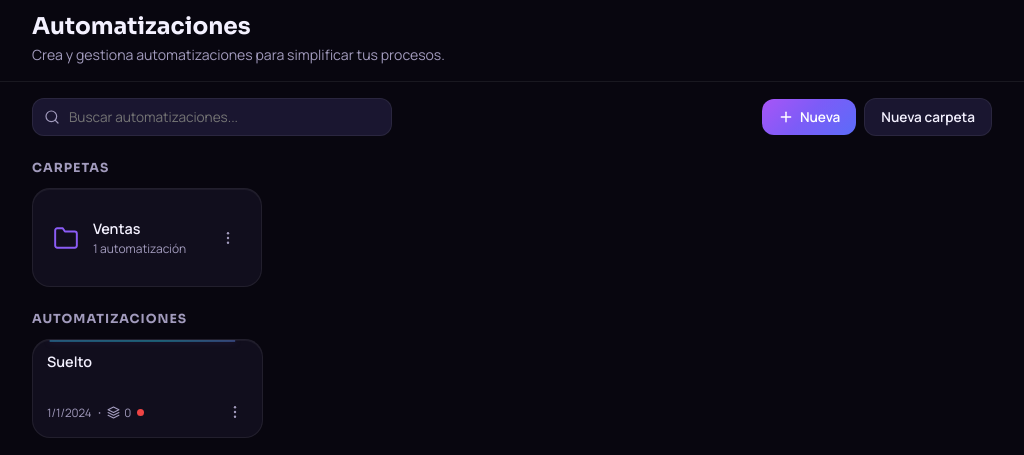
Test: abrir una carpeta › muestra únicamente sus automatizaciones
expect the text "Suelto" is shown: met, box [47,352,92,372]
Click the button "Ventas 1 automatización". click: (147,238)
box: [32,188,262,287]
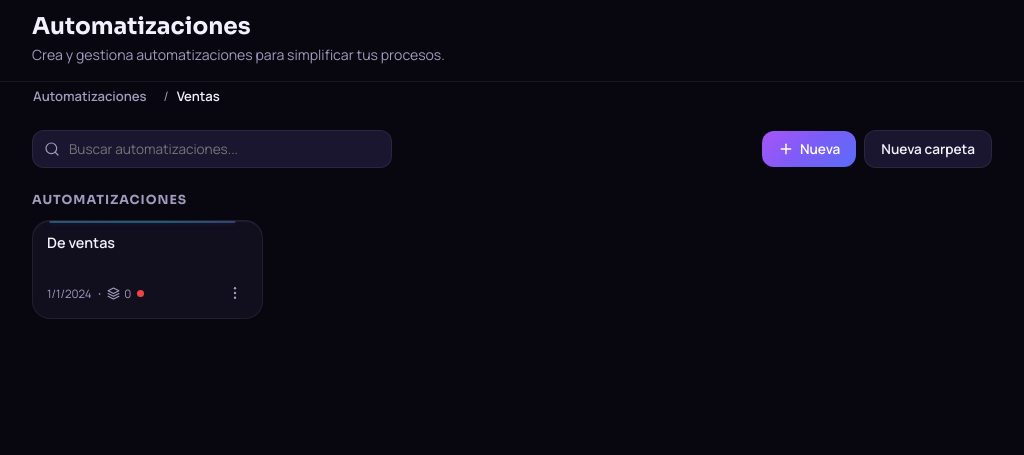
expect the button "Suelto" is gone: met
